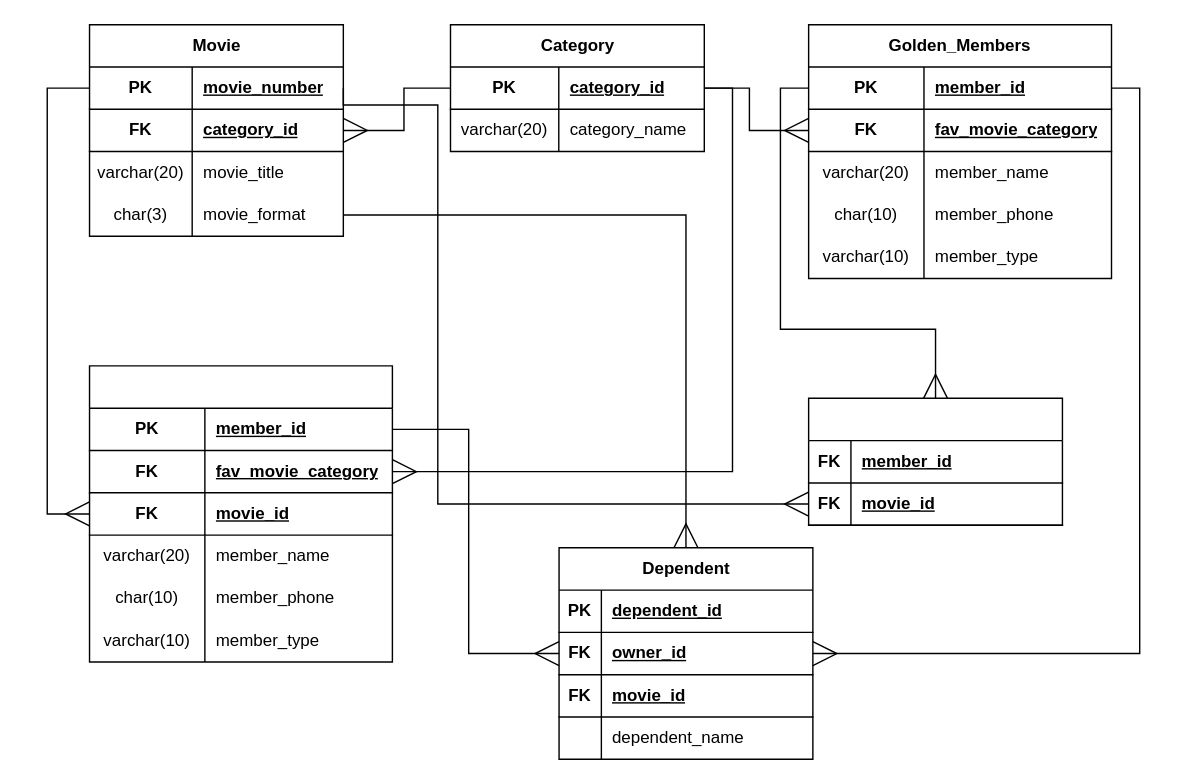
This 1189x784 diagram has some shape labels left out. The shapes that lost their labels are listed below. From the top down, each one's box as (x1, y1, x2, y2) in pixels, then its label:
(807, 397, 1062, 525): Golden_Member_Movies
(88, 364, 392, 662): Bronze_Members
